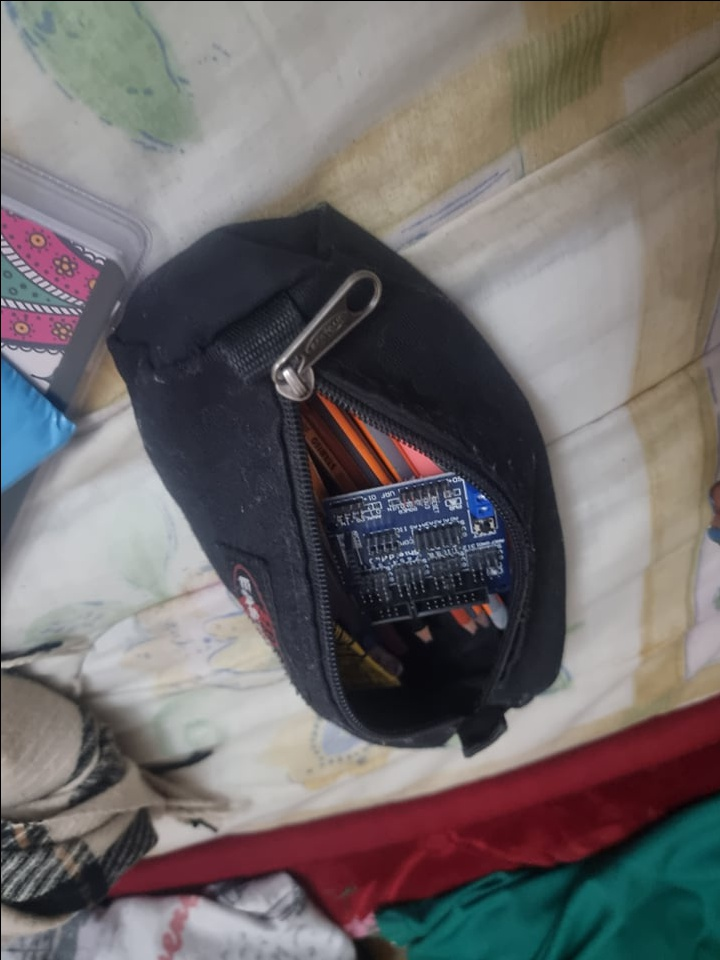5V EXPANSION: (313, 475, 511, 608)
